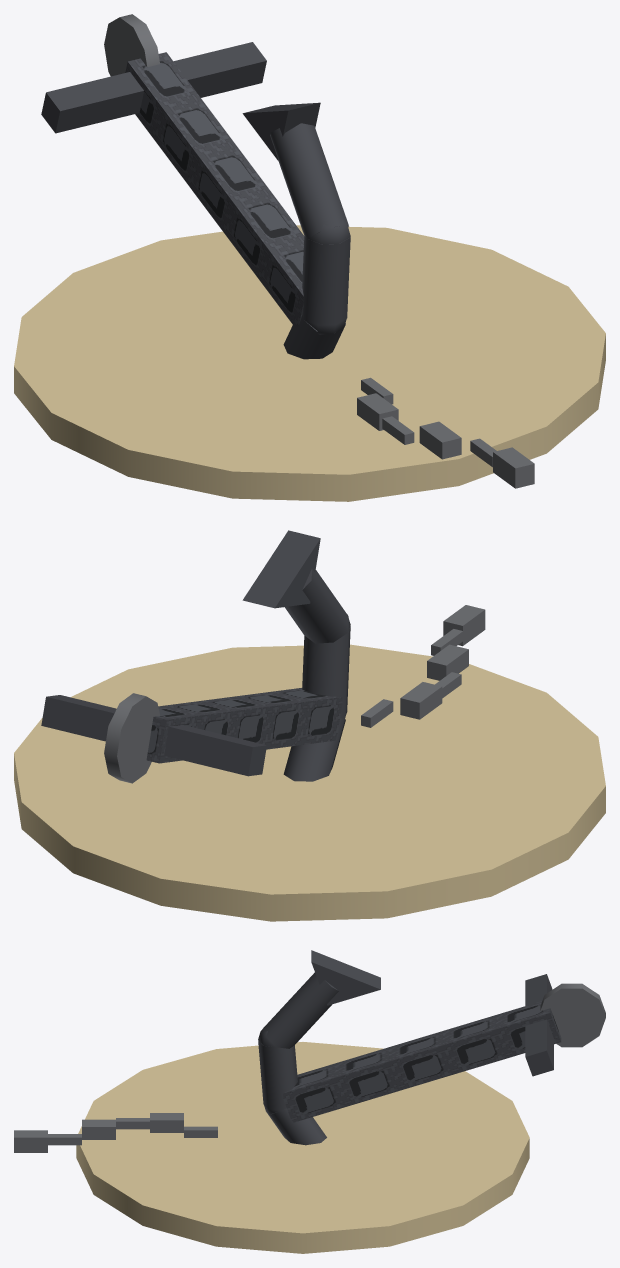
The model's file is SunkenAnchor.glb.
3 views of the same model, one above another, from view 1: azimuth 30°, elevation 25°; view 2: azimuth 150°, elevation 25°; view 3: azimuth 270°, elevation 25° (orthographic). The views are drawn at different scales.
Parts seen in each view (by area): view 1: SunkenAnchor; view 2: SunkenAnchor; view 3: SunkenAnchor.
Boxes of the visible parts, x1,y1,x2,y2 form: SunkenAnchor: (14,14,605,501); SunkenAnchor: (14,530,605,921); SunkenAnchor: (14,950,605,1253).
Size of the model in its own units: 8 by 4.84 by 10.44.
1 material, 1 textured.
